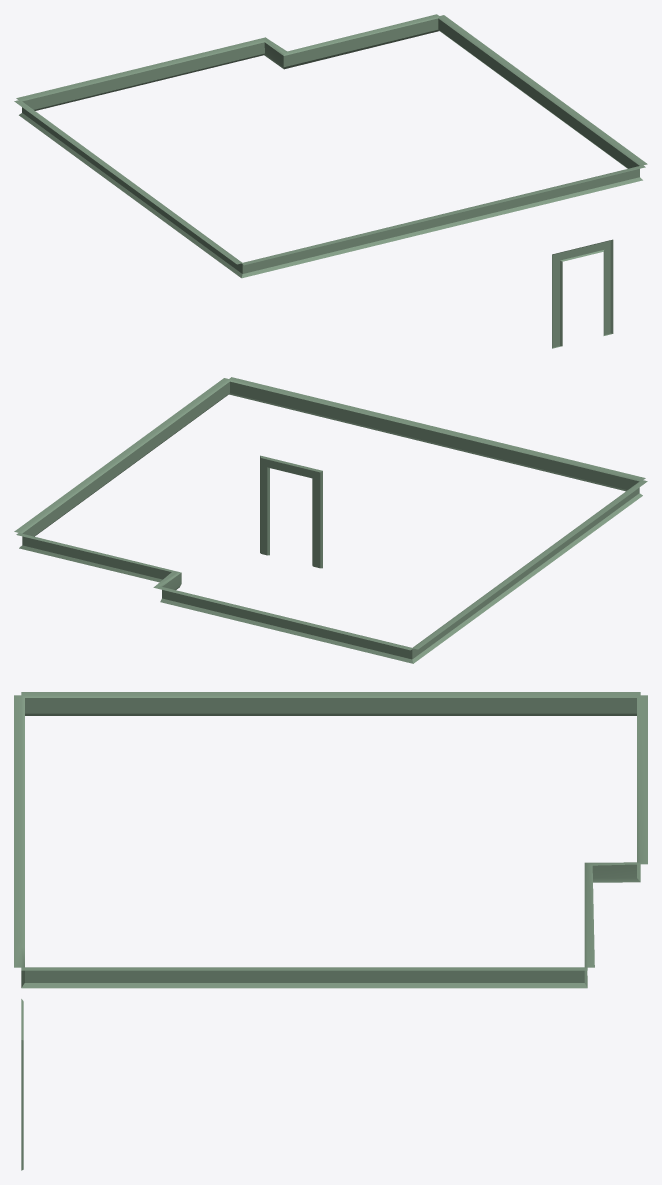
The model's file is Socalo.fbx.
3 renders of one model, top to bottom at view 1: azimuth 30°, elevation 25°; view 2: azimuth 150°, elevation 25°; view 3: azimuth 270°, elevation 25°, orthographic. The views are drawn at different scales.
Parts seen in each view (by area): view 1: socalo; view 2: socalo; view 3: socalo.
Boxes of the visible parts, left/top/right/bottom form: socalo: left=14, top=14, right=647, bottom=348; socalo: left=14, top=377, right=647, bottom=663; socalo: left=14, top=692, right=647, bottom=1170.
Size of the model in its own units: 943 by 353 by 907.
